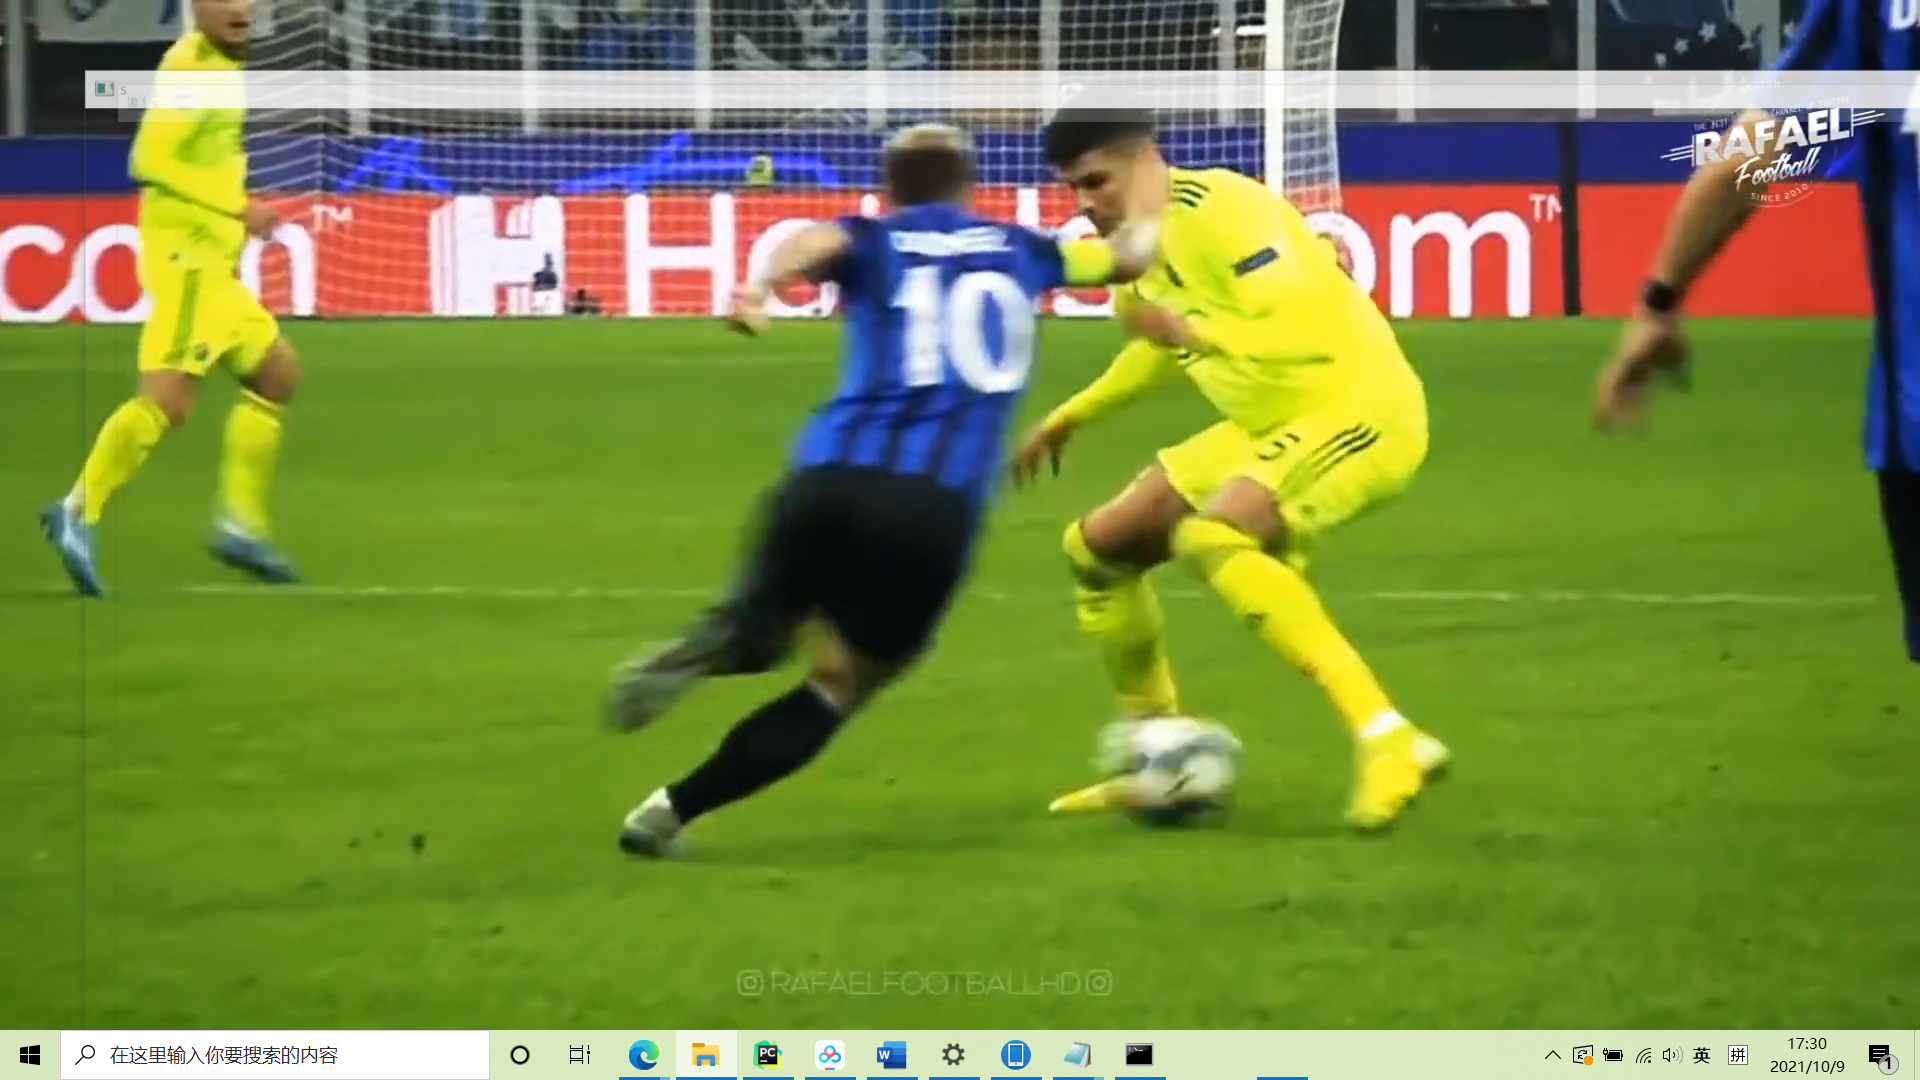ft: (1102, 717, 1250, 828)
